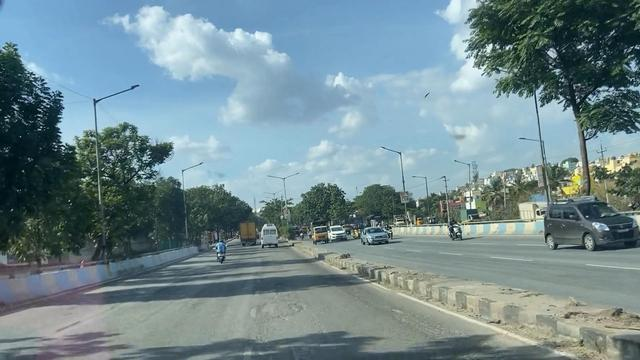HMV: (241, 221, 261, 245), (262, 220, 279, 244)
LMV: (205, 238, 226, 261)
RoadDamages: (231, 280, 332, 350), (55, 308, 160, 360), (365, 300, 449, 360)
